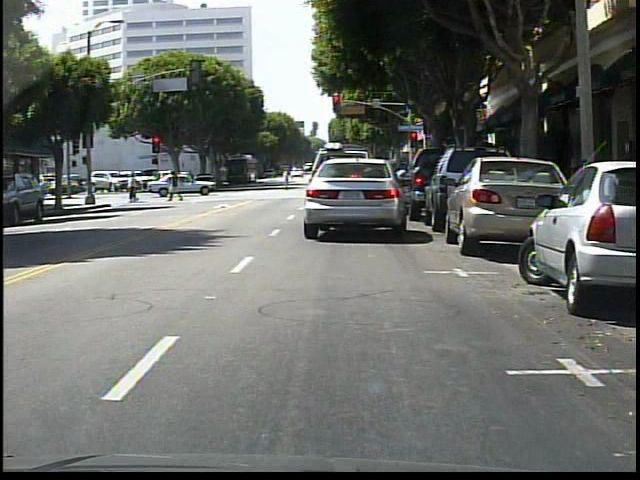person: (126, 173, 142, 204), (169, 169, 183, 201), (283, 166, 292, 190)
